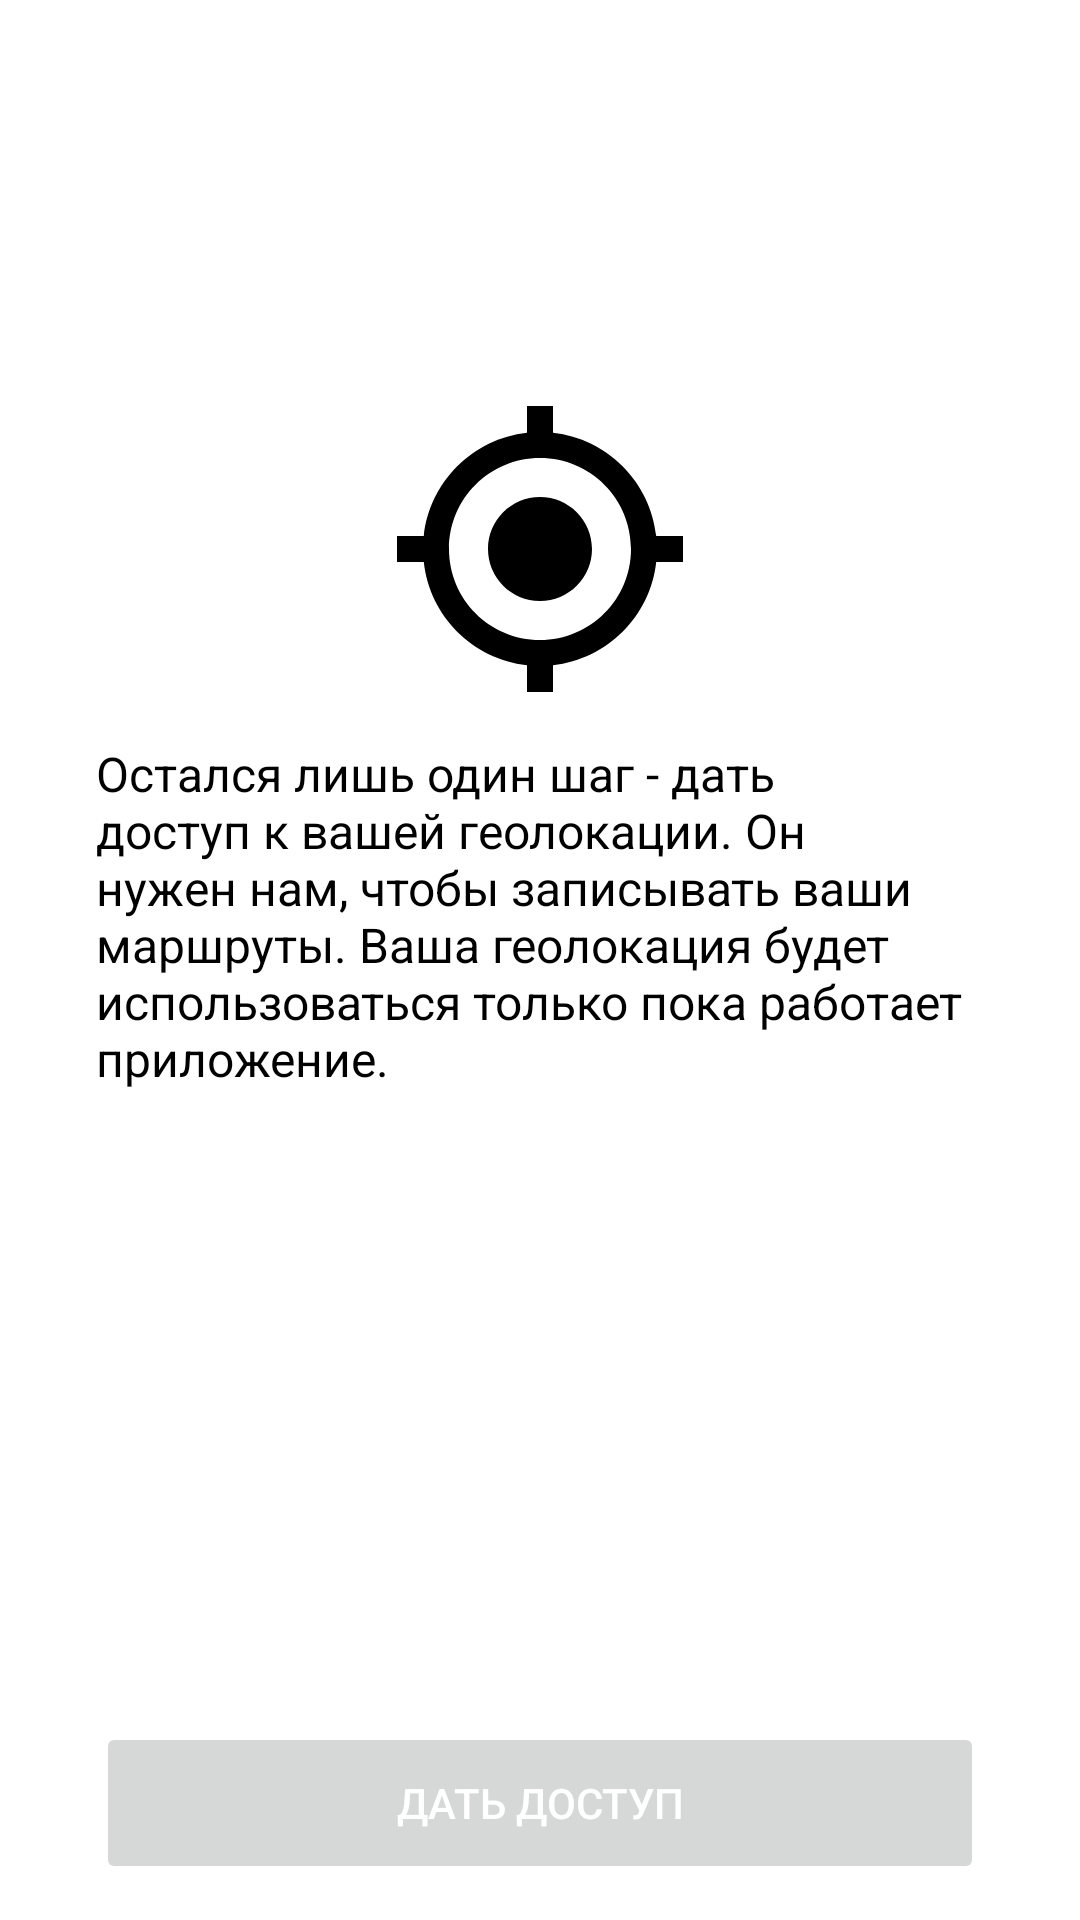

Where icons sit on this 1080px×1920px app screen, as (x1, y1, x2, y2):
gps marker: (397, 406, 683, 692)
